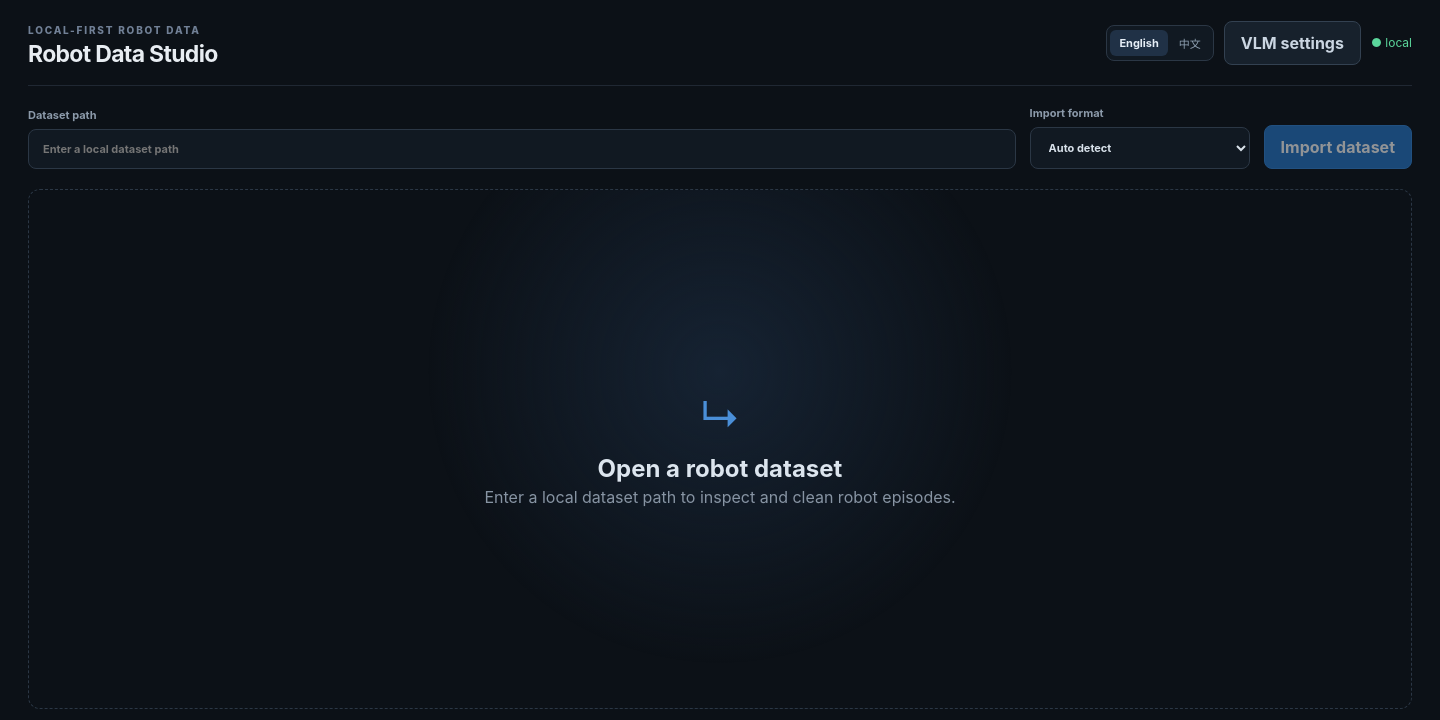
it: selects configured sidebar filters and leaves setup-dependent filters unchecked on import
Type "/tmp/pusht" into the field labelled "Dataset path".
click(522, 149); type("/tmp/pusht")  # box [28,129,1016,169]
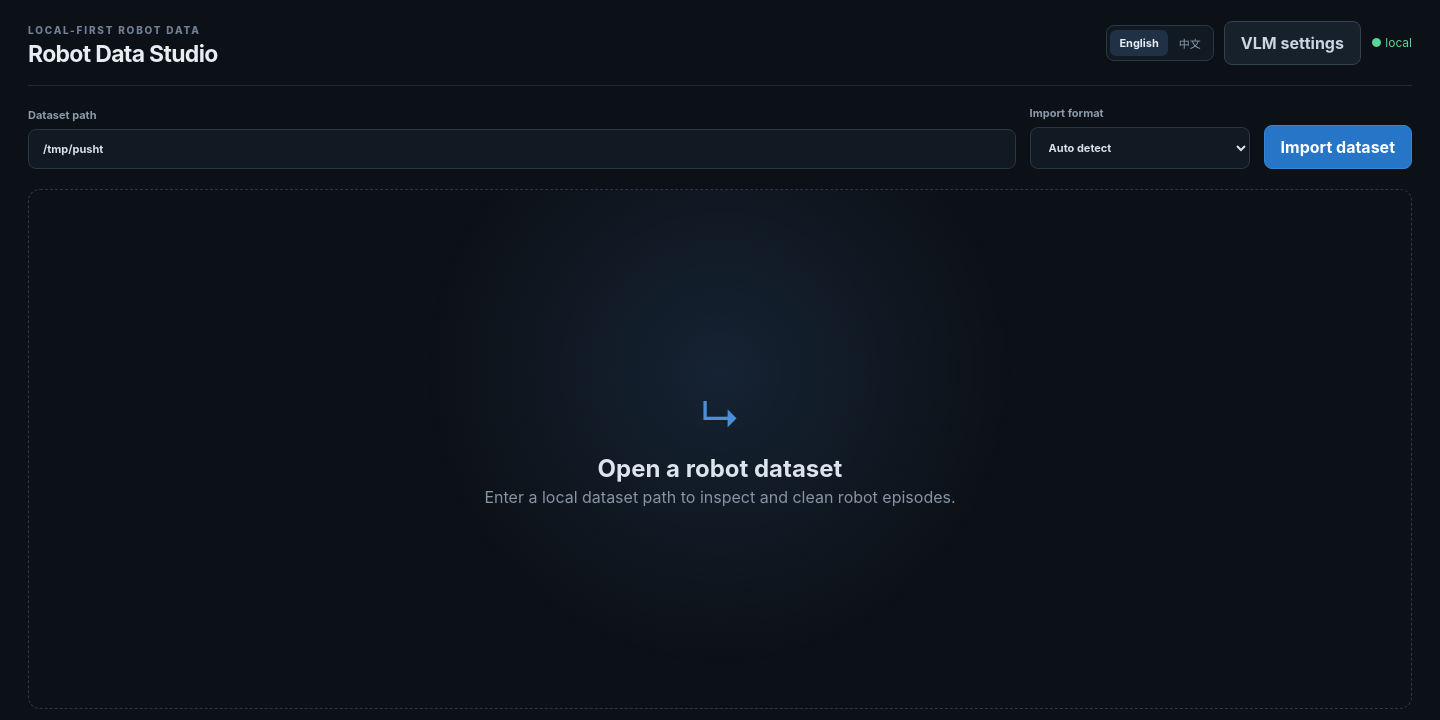
Click the button "Import dataset".
click(1338, 147)  # box [1264,125,1412,169]
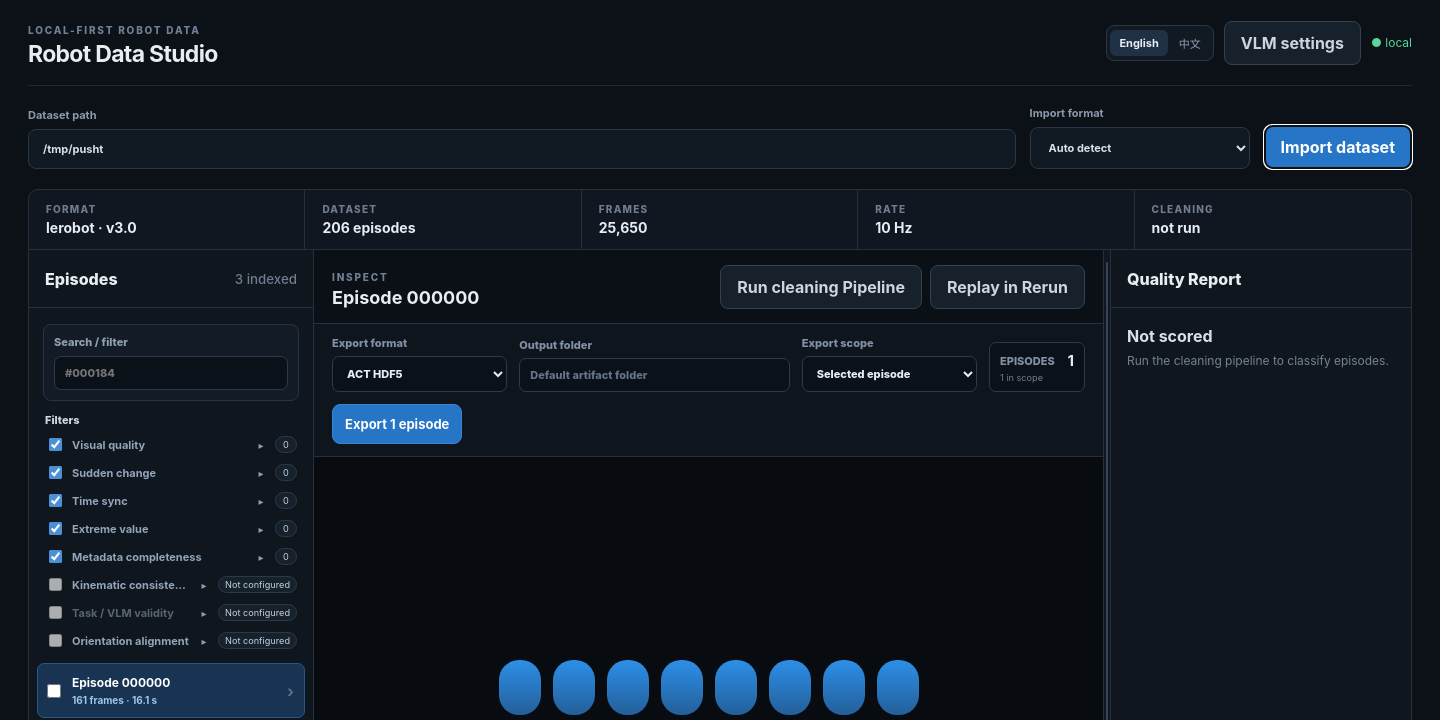
expect the element with class "sidebar-tools" is shown: met, box [37,316,305,663]
expect the checkbox labelled "Visual quality" is checked: met, box [49,438,62,451]
expect the number of checkboxes labelled "Time sync" is 1: met, box [49,494,62,507]
